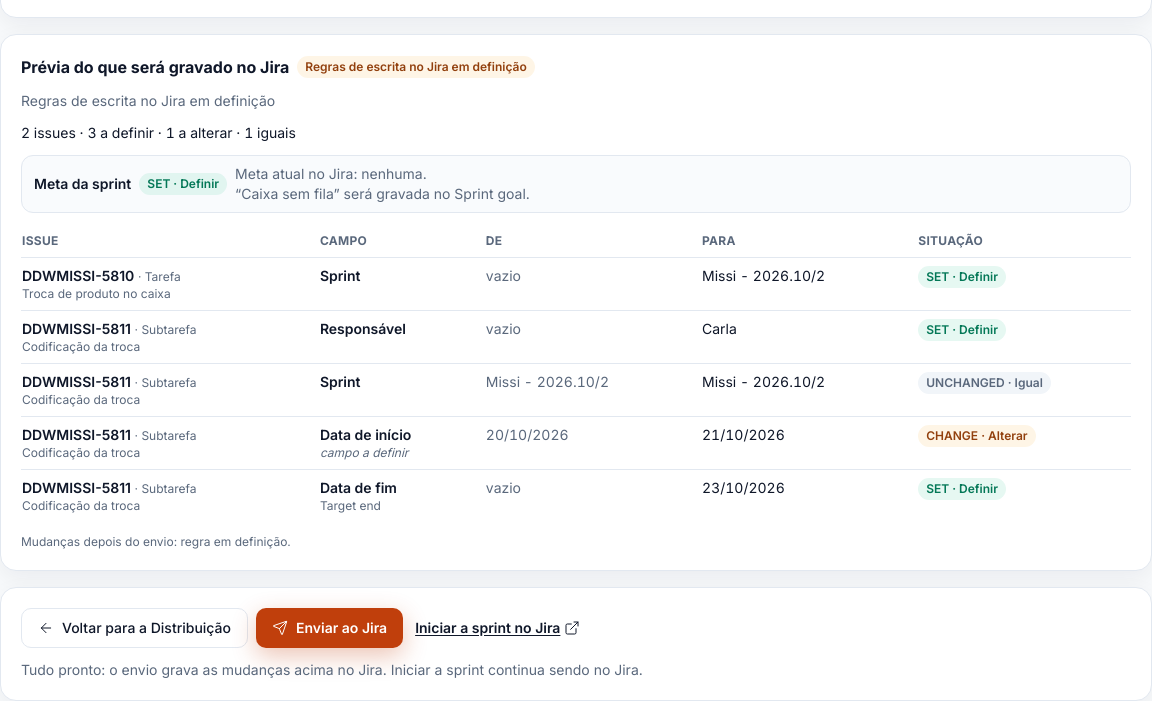
Test case: Revisão: envio › liberado: envia; 501 mostra a mensagem clara
(page scrolled)
Click the button "Enviar ao Jira".
click(330, 628)  # box [256,608,403,648]
(page scrolled)
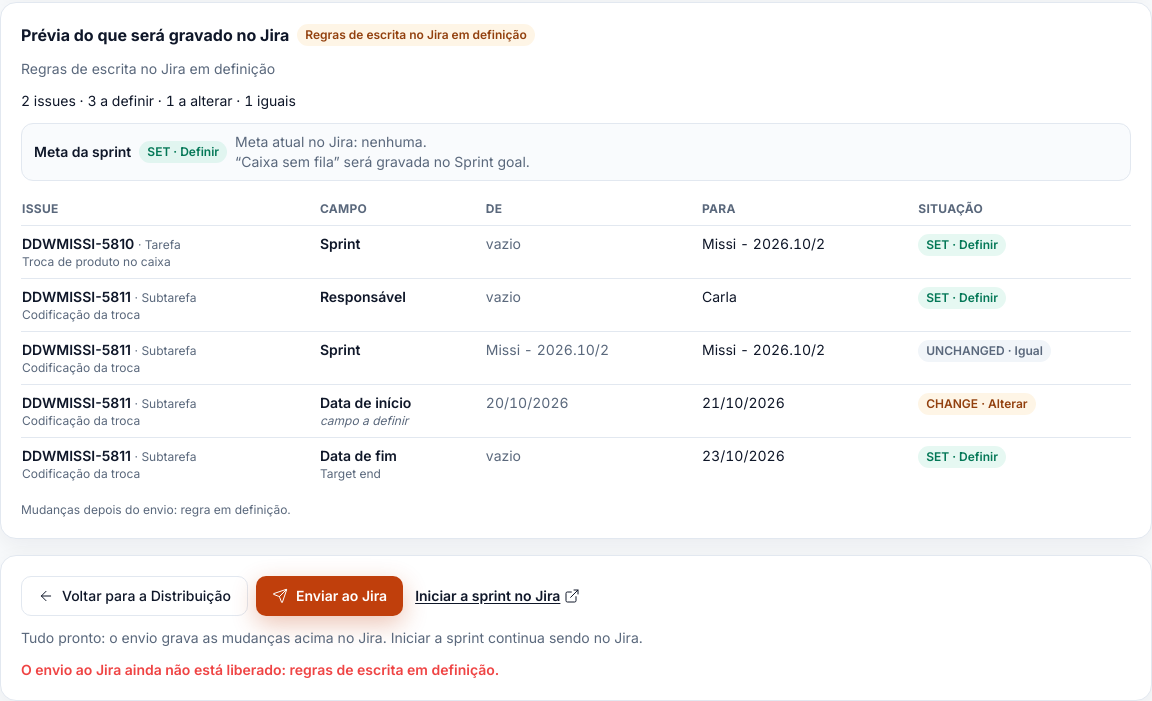
Now the message with test id "erro-envio" reads "O envio ao Jira ainda não está liberado: regras de escrita em definição.", box [21,661,499,678]
